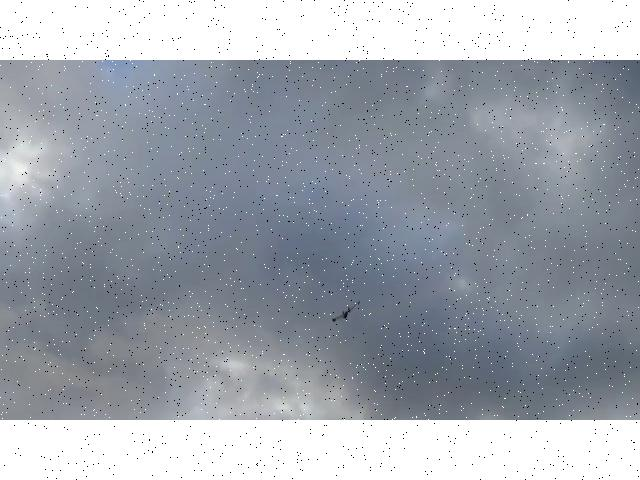Anti-Drone: (332, 301, 360, 323)
